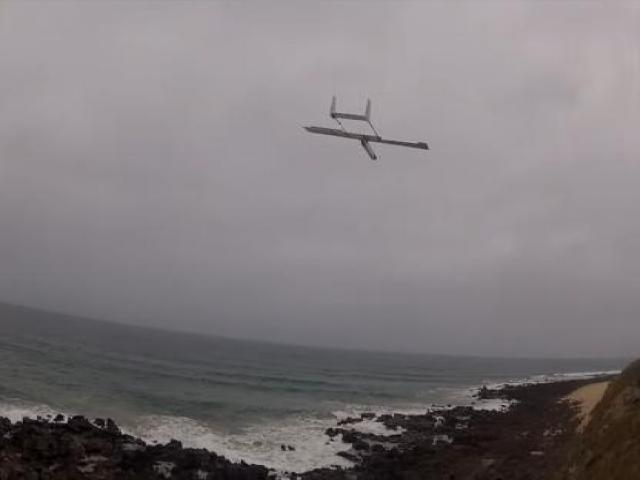uav: (298, 90, 432, 166)
